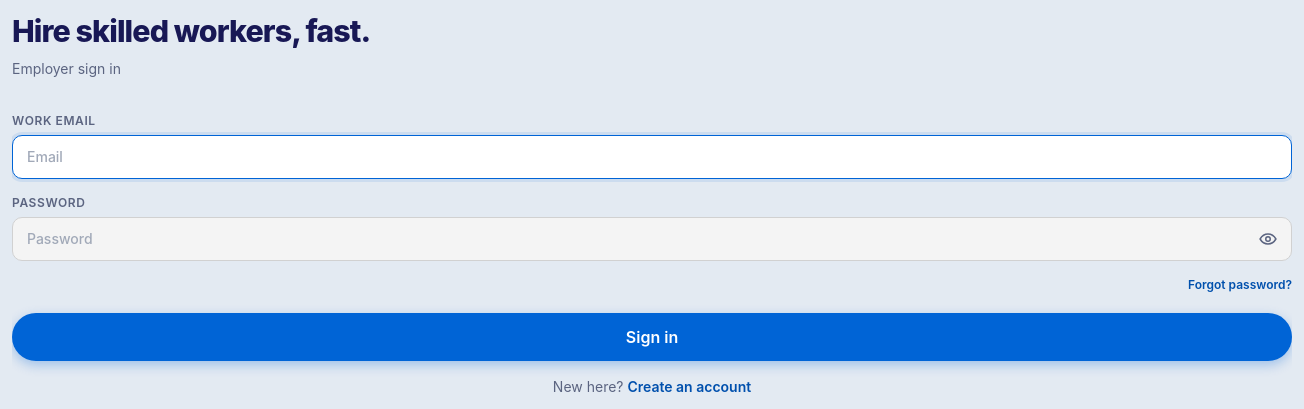
EmployerAuthForm — forgot password for an unconfirmed account › leaves an ordinary reset failure on the forgot step with its own message
Step 1. Click the button "Forgot password?" → click(1240, 285), box [1188,277,1292,293]
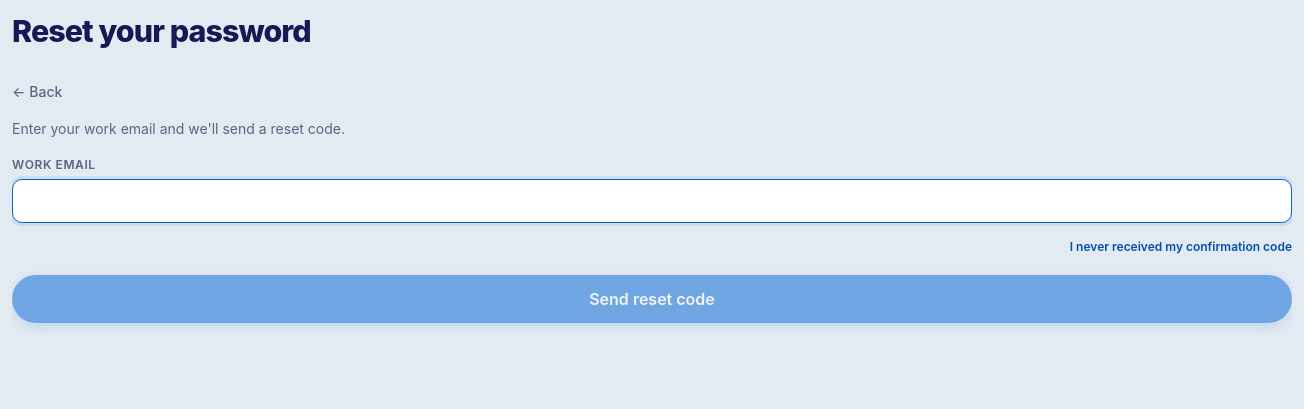
Expected: the heading "Reset your password" is shown, [12,13,311,49]
Step 2. Type "employer@example.com" into the field → (652, 201), box [12,179,1292,223]
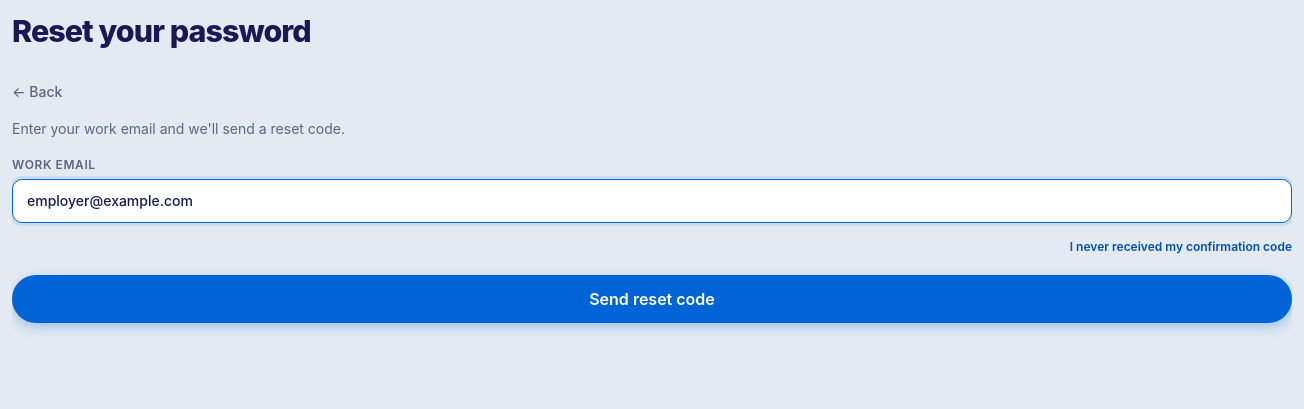
Step 3. Click the button "Send reset code" → click(652, 299), box [12,275,1292,323]
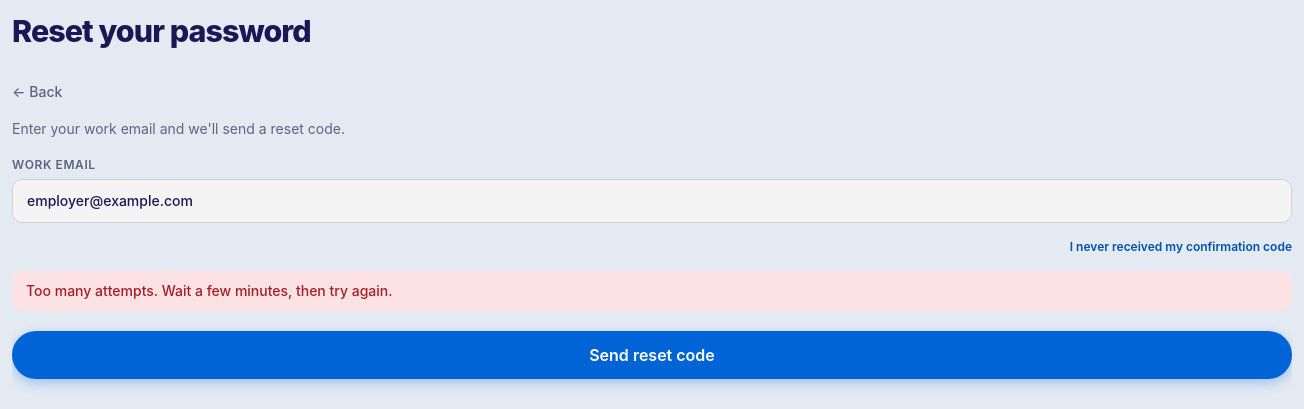
Expected: the heading "Reset your password" is shown, [12,13,311,49]
Expected: the text "Too many attempts. Wait a few minutes, then try again." is shown, [26,282,392,299]
